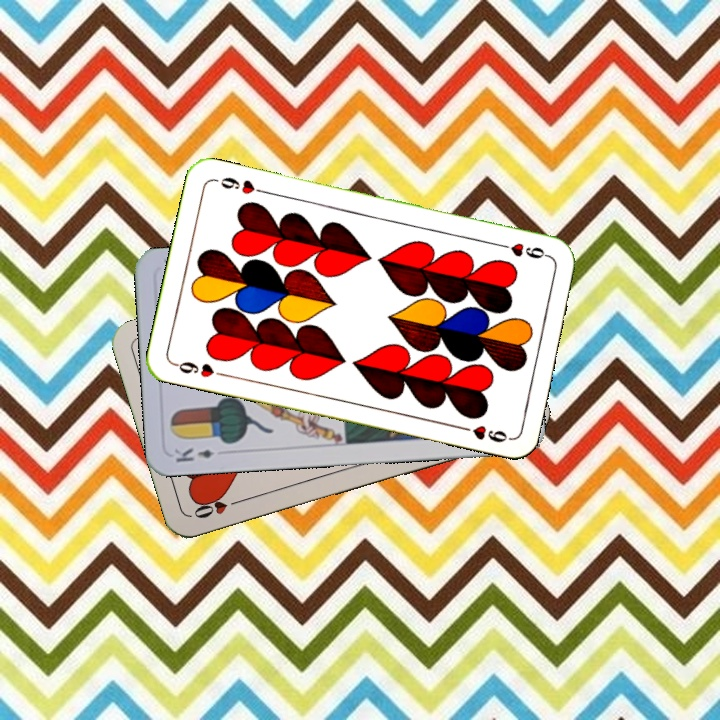EK: (170, 443, 216, 465)
H9: (493, 238, 552, 262), (170, 357, 228, 380)
HO: (189, 494, 247, 521)
